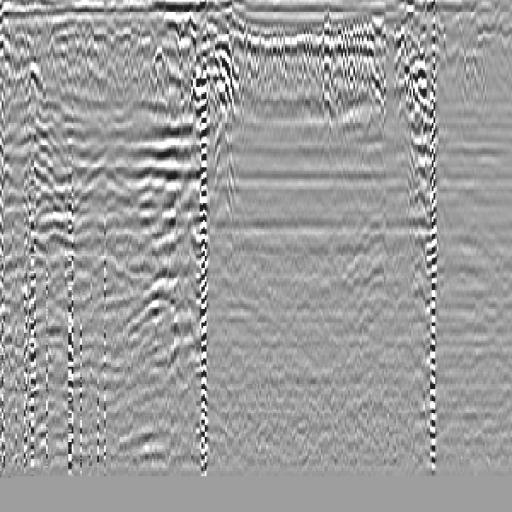non-metallic: (204, 31, 247, 112)
